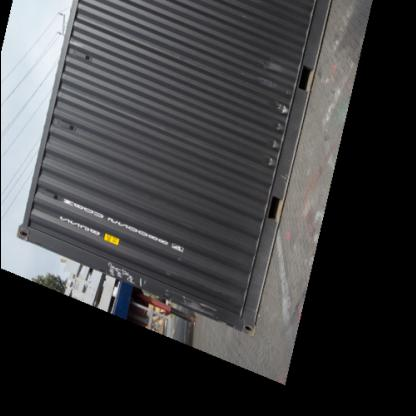Damage: (262, 96, 290, 171), (163, 284, 221, 320), (252, 51, 280, 94)
